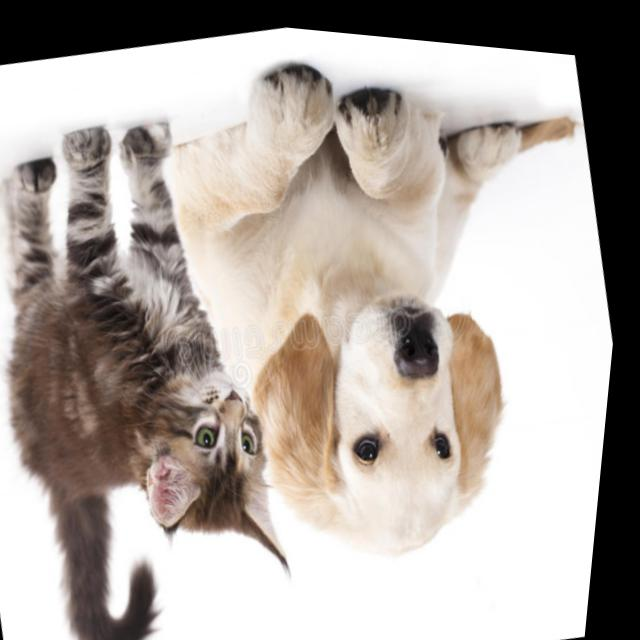Cat: (0, 90, 354, 640)
Dog: (137, 14, 640, 640)
